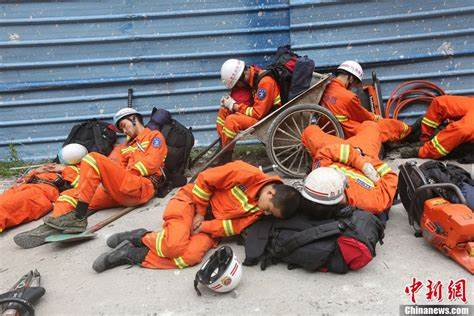fall: (2, 131, 80, 255)
